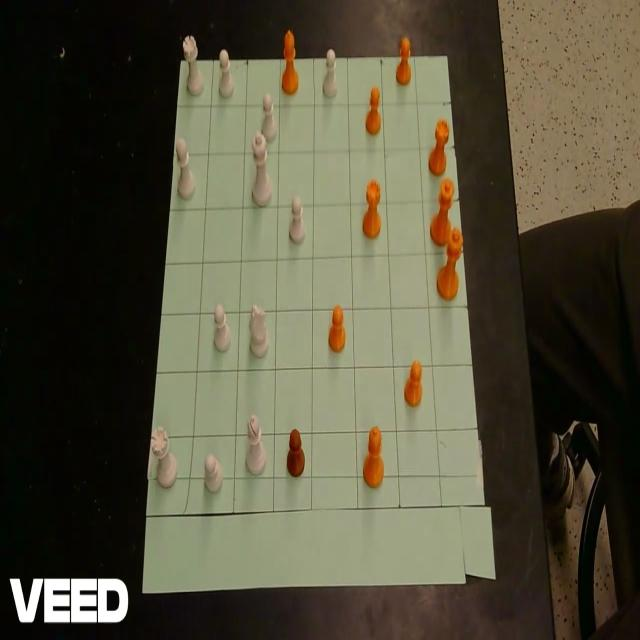orange_bishop: (363, 426, 385, 488), (282, 28, 298, 94)
orange_king: (436, 226, 464, 302)
orange_pawn: (403, 359, 422, 407), (287, 428, 305, 478), (328, 304, 346, 353), (396, 35, 412, 85), (366, 86, 382, 134)
orange_queen: (430, 178, 454, 246)
orange_rook: (362, 177, 382, 238), (428, 118, 449, 176)
white_bishop: (246, 414, 267, 476), (176, 134, 195, 198)
white_king: (251, 130, 271, 205)
white_knight: (249, 301, 269, 358)
white_pawn: (213, 300, 231, 352), (289, 193, 305, 244), (204, 452, 224, 492), (261, 92, 277, 142), (219, 46, 234, 98), (323, 47, 337, 97), (184, 36, 198, 58)
white_rook: (152, 426, 178, 488), (184, 34, 204, 96)
